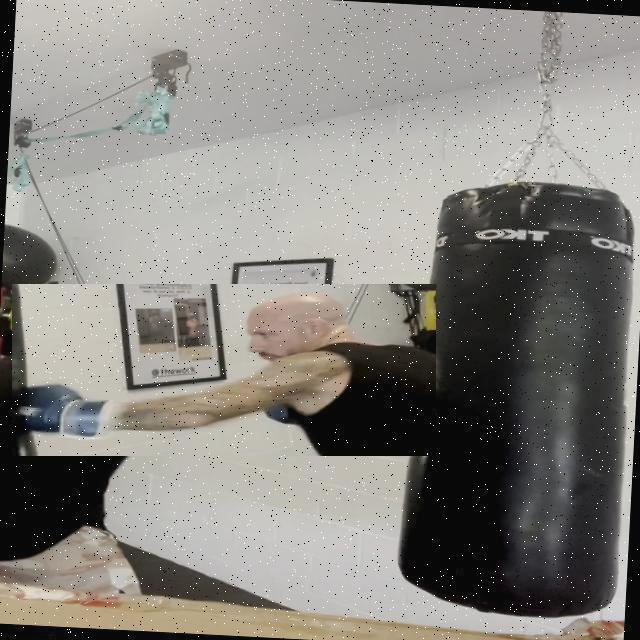punch: (12, 284, 436, 456)
